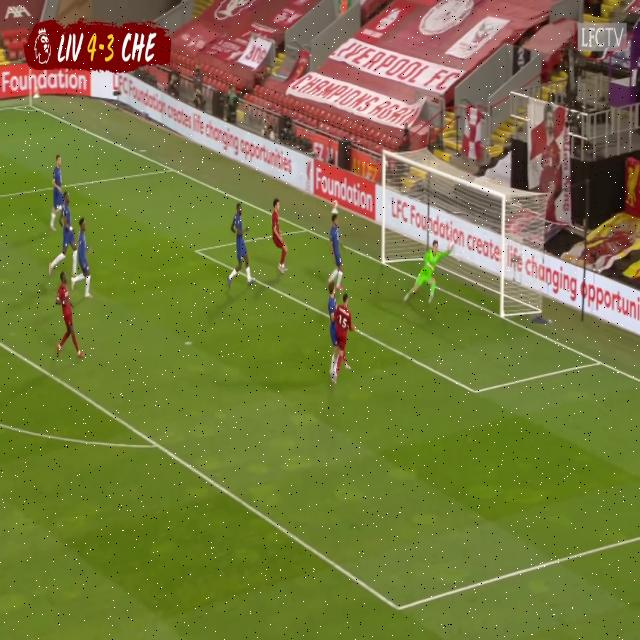GoalKeeper: (405, 242, 446, 308)
TEAM 1: (55, 274, 86, 359), (335, 282, 356, 387), (271, 200, 290, 277)
TEAM 2: (227, 206, 255, 291), (51, 186, 78, 272), (70, 216, 92, 298), (47, 156, 62, 241), (328, 207, 344, 286), (330, 286, 338, 382)
